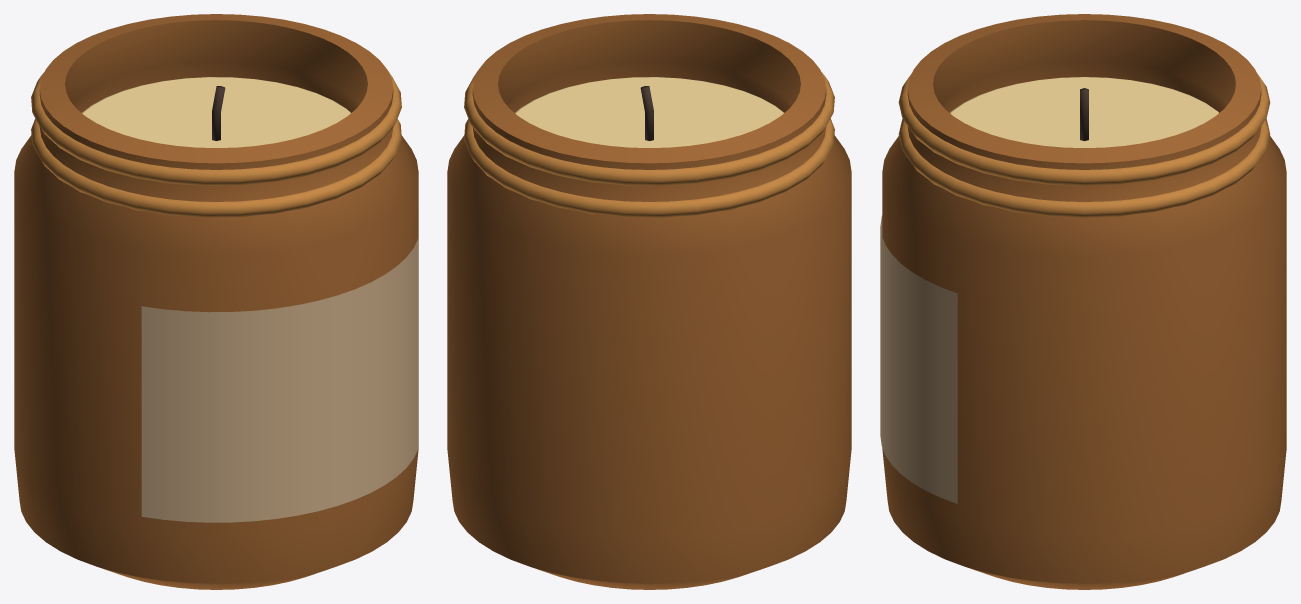
Rendered from candle.glb.
3 views of the same model, side by side, from view 1: azimuth 30°, elevation 25°; view 2: azimuth 150°, elevation 25°; view 3: azimuth 270°, elevation 25° (orthographic).
Visible parts, largest first — view 1: jar, wax; view 2: jar, wax; view 3: jar, wax.
Boxes of the visible parts, x1,y1,x2,y2 form: jar: [14, 14, 418, 589]; wax: [82, 77, 350, 147]; jar: [447, 14, 851, 589]; wax: [515, 77, 783, 147]; jar: [880, 14, 1286, 589]; wax: [950, 77, 1218, 147].
Size of the model in its own units: 0.08 by 0.097 by 0.0804.
